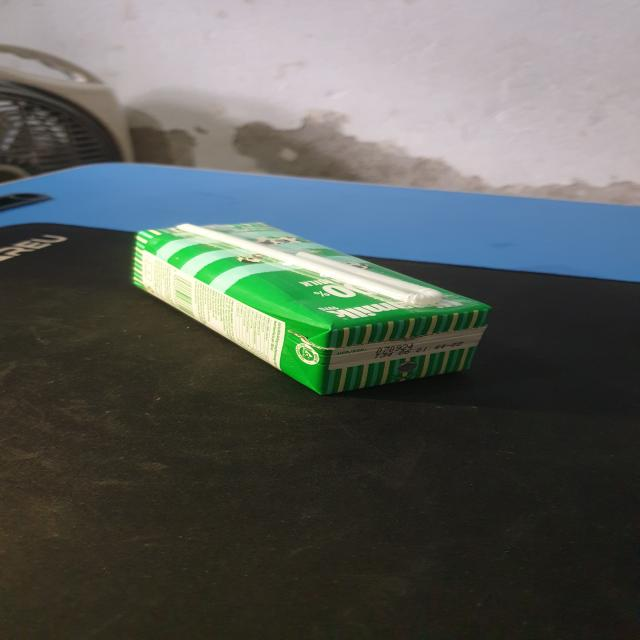Vina: (130, 221, 497, 397)
